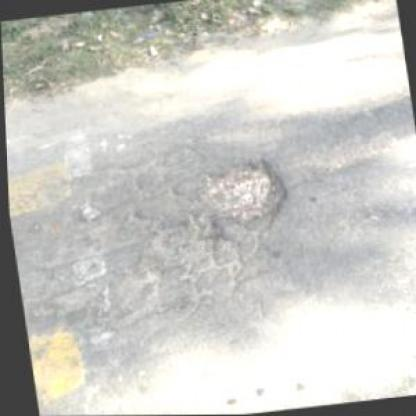pothole: (187, 152, 293, 229), (129, 216, 225, 276)
